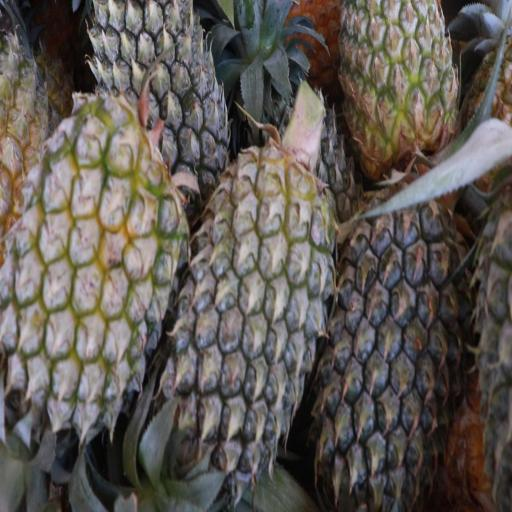------------------------------: (5, 103, 176, 432), (334, 0, 458, 164)
